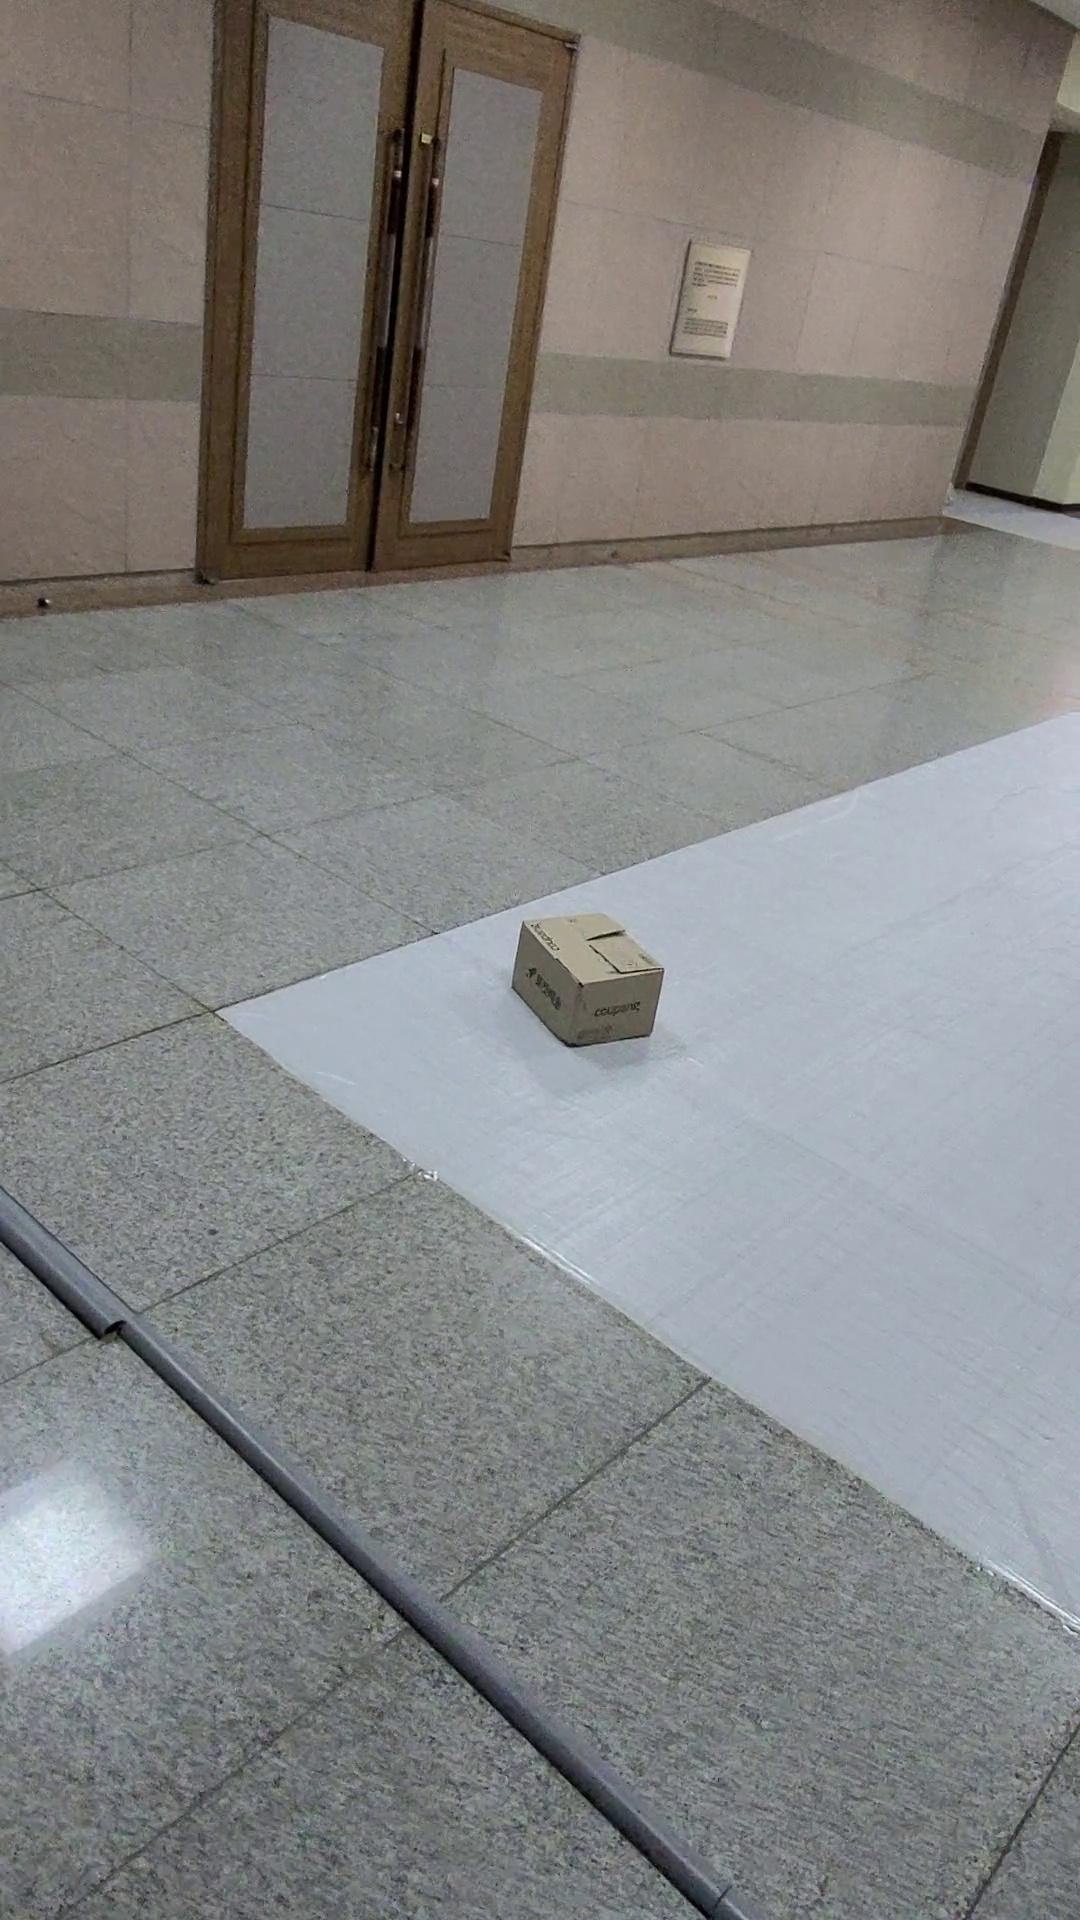Box: (468, 913, 676, 1058)
